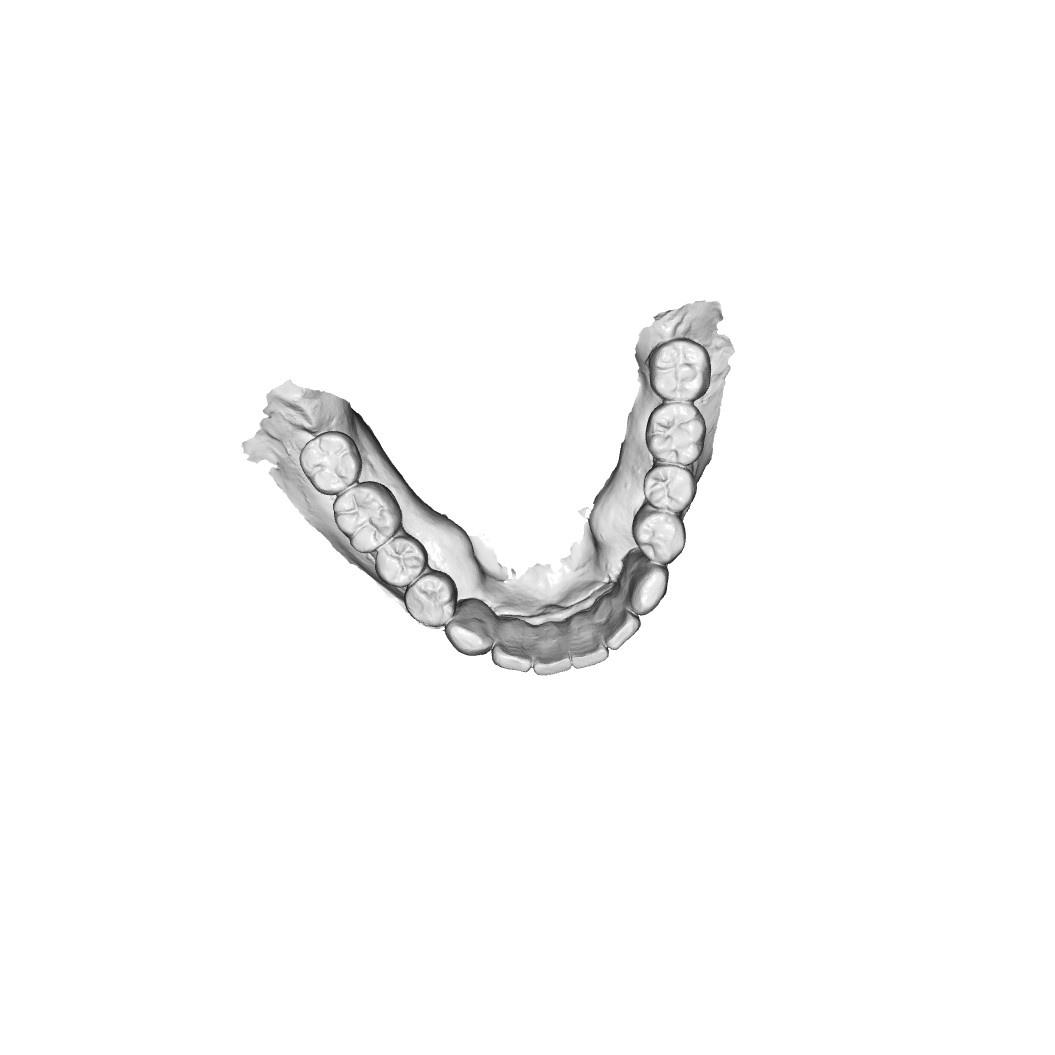canine: (443, 598, 498, 657), (623, 551, 669, 615)
incisor: (597, 595, 642, 651), (532, 621, 573, 677), (491, 617, 532, 673), (569, 616, 610, 669)
molar: (332, 480, 403, 554), (299, 430, 363, 496), (648, 337, 712, 400), (645, 402, 707, 467)
premolar: (631, 506, 687, 565), (404, 569, 459, 628), (375, 533, 429, 588), (643, 465, 698, 513)
